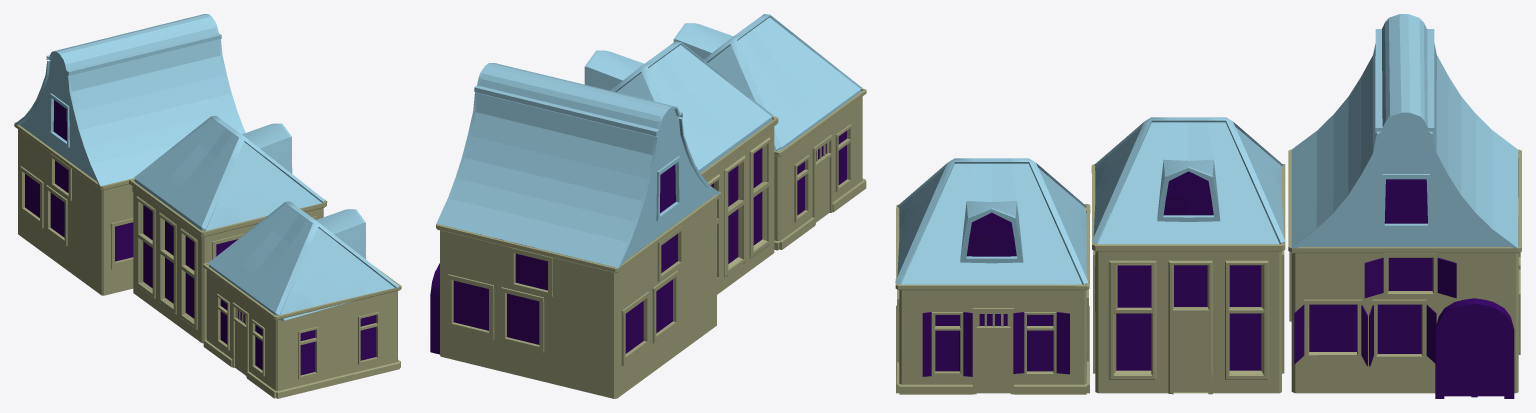
File: Houses_Test.fbx
3 views of the same model, side by side, from view 1: azimuth 30°, elevation 25°; view 2: azimuth 150°, elevation 25°; view 3: azimuth 270°, elevation 25° (orthographic). The views are drawn at different scales.
Visible parts, largest first — view 1: pPlane30, pPlane11, pPlane23, pPlane24, pPlane20, pPlane16; view 2: pPlane30, pPlane20, pPlane23, pPlane24, pPlane11, pPlane16, pPlane31; view 3: pPlane30, pPlane16, pPlane20, pPlane11, pPlane24, pPlane23, pPlane31.
Boxes of the visible parts, x1=… form: pPlane30: x1=15, y1=14, x2=245, y2=186; pPlane11: x1=203, y1=262, x2=401, y2=398; pPlane23: x1=208, y1=201, x2=398, y2=320; pPlane24: x1=134, y1=116, x2=324, y2=231; pPlane20: x1=14, y1=122, x2=134, y2=295; pPlane16: x1=129, y1=178, x2=327, y2=343; pPlane30: x1=436, y1=63, x2=720, y2=267; pPlane20: x1=436, y1=191, x2=721, y2=398; pPlane23: x1=673, y1=14, x2=861, y2=151; pPlane24: x1=584, y1=41, x2=772, y2=172; pPlane11: x1=774, y1=88, x2=866, y2=250; pPlane16: x1=700, y1=116, x2=778, y2=294; pPlane31: x1=430, y1=263, x2=439, y2=354; pPlane30: x1=1291, y1=14, x2=1518, y2=248; pPlane16: x1=1091, y1=164, x2=1285, y2=394; pPlane20: x1=1288, y1=149, x2=1521, y2=393; pPlane11: x1=895, y1=204, x2=1090, y2=394; pPlane24: x1=1092, y1=117, x2=1285, y2=244; pPlane23: x1=895, y1=158, x2=1088, y2=284; pPlane31: x1=1435, y1=298, x2=1514, y2=398.
Size of the model in its own units: 8.76 by 10.55 by 21.26.
